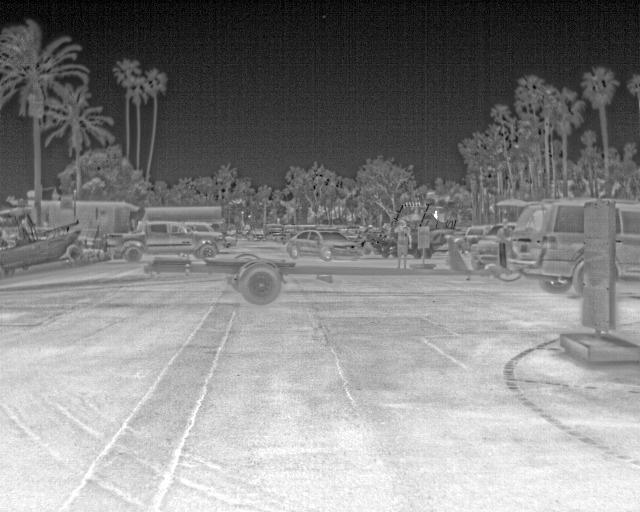bicycle: (500, 198, 582, 295), (111, 219, 219, 259), (285, 225, 361, 261), (616, 198, 638, 285), (180, 223, 228, 239)
empty: (392, 217, 414, 270)
